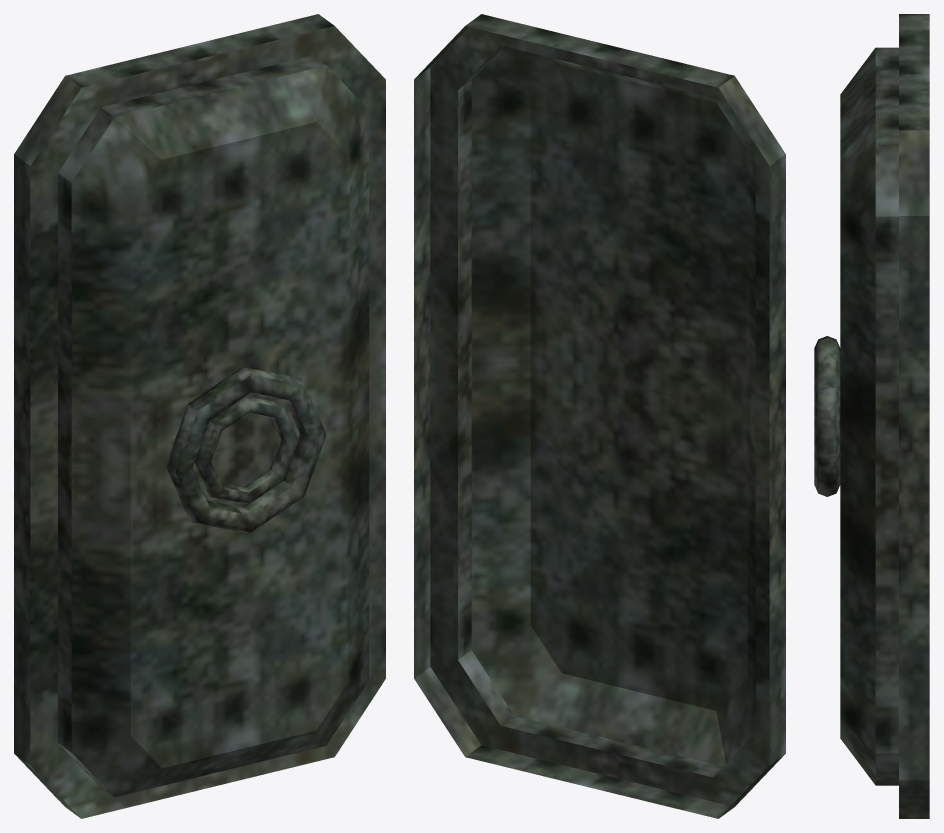
File: Hatch.glb
3 views of the same model, side by side, from view 1: azimuth 30°, elevation 25°; view 2: azimuth 150°, elevation 25°; view 3: azimuth 270°, elevation 25° (orthographic). The views are drawn at different scales.
Visible parts, largest first — view 1: Cube, Torus; view 2: Cube; view 3: Cube, Torus.
Part boxes in pixels (left/top/right/bottom): Cube: left=14, top=14, right=385, bottom=818; Torus: left=166, top=367, right=326, bottom=532; Cube: left=414, top=14, right=785, bottom=818; Cube: left=840, top=14, right=929, bottom=818; Torus: left=814, top=336, right=840, bottom=496.
Bounding box in the file's own units: 2.39 × 4.69 × 0.7119.
2 materials, 2 textured.
